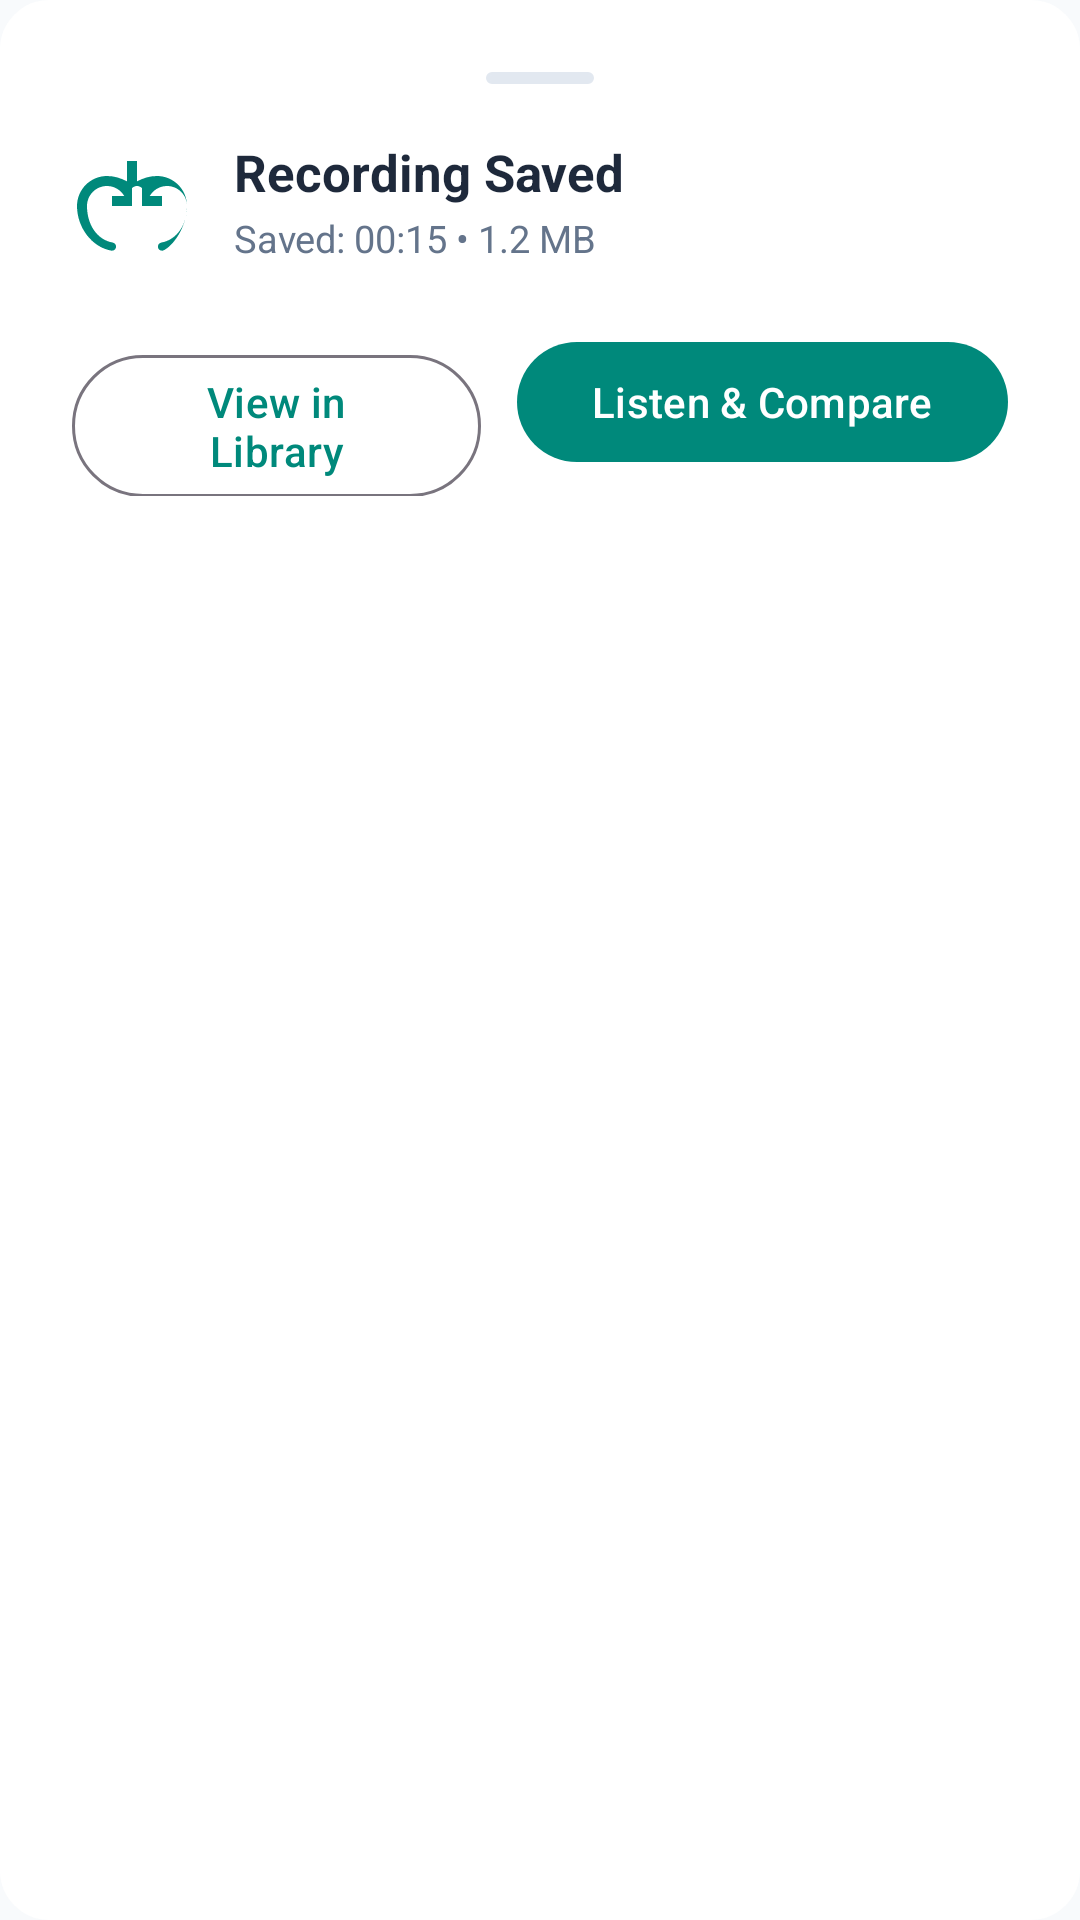

Where icons sit on this 1080 × 1920 app screen, as (x1, y1, x2, y2):
lungs: (77, 161, 187, 251)
